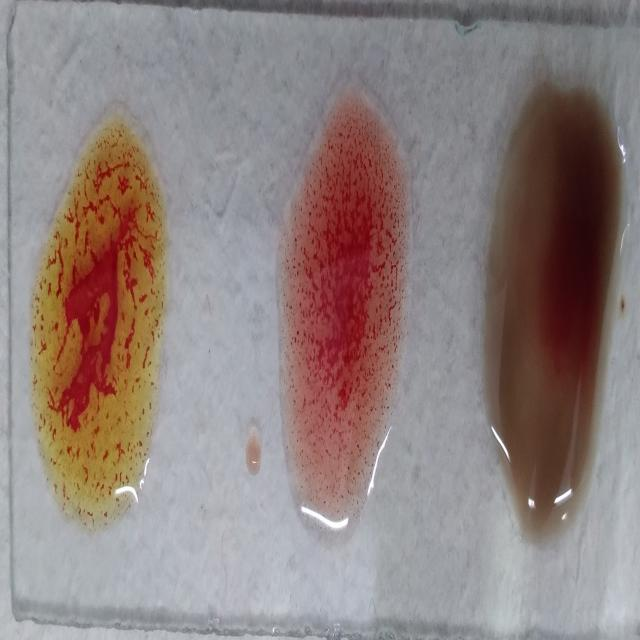B: (29, 121, 164, 525)
D: (279, 86, 409, 545)
